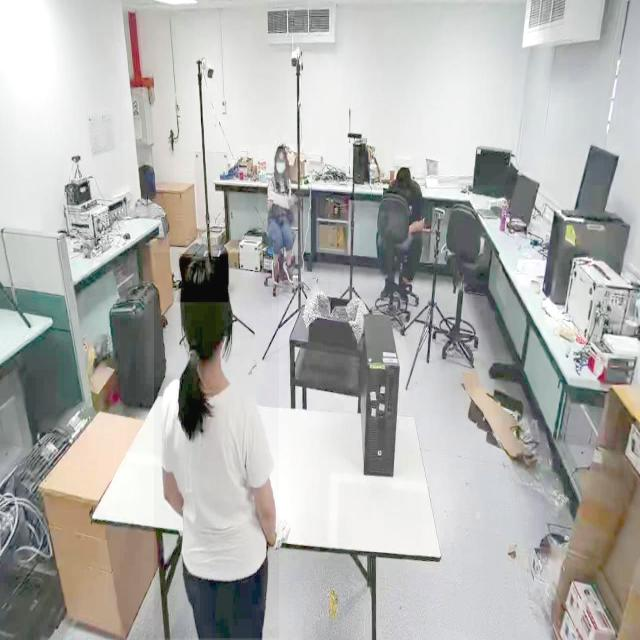face_mask: (275, 148, 289, 182)
head_nohelmet: (179, 254, 229, 303), (395, 165, 411, 182), (274, 144, 286, 155)
person: (154, 253, 280, 639), (258, 144, 304, 288)
shoes: (282, 260, 298, 282), (270, 257, 280, 285)
